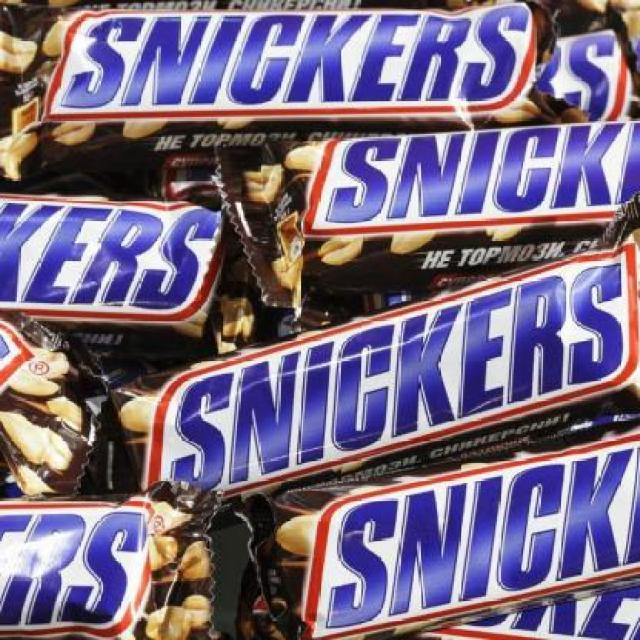Chocolate bar: (115, 220, 640, 477), (233, 434, 639, 640), (7, 8, 553, 156), (206, 121, 640, 306)
